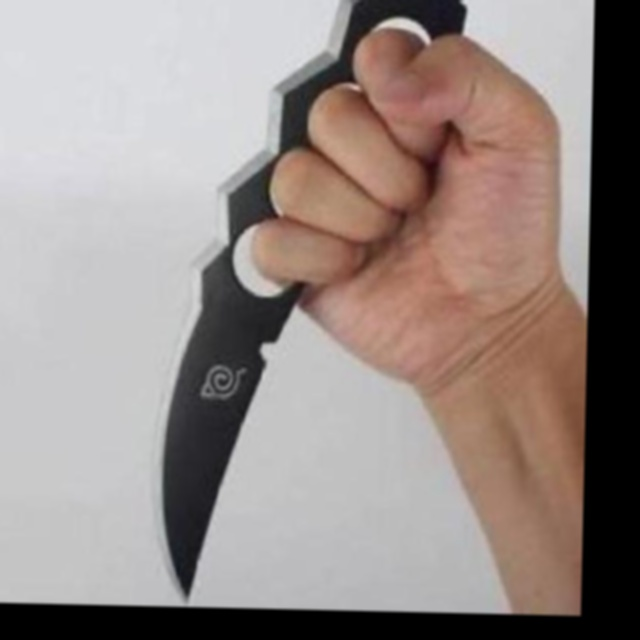Sharp-Object: (156, 0, 473, 608)
